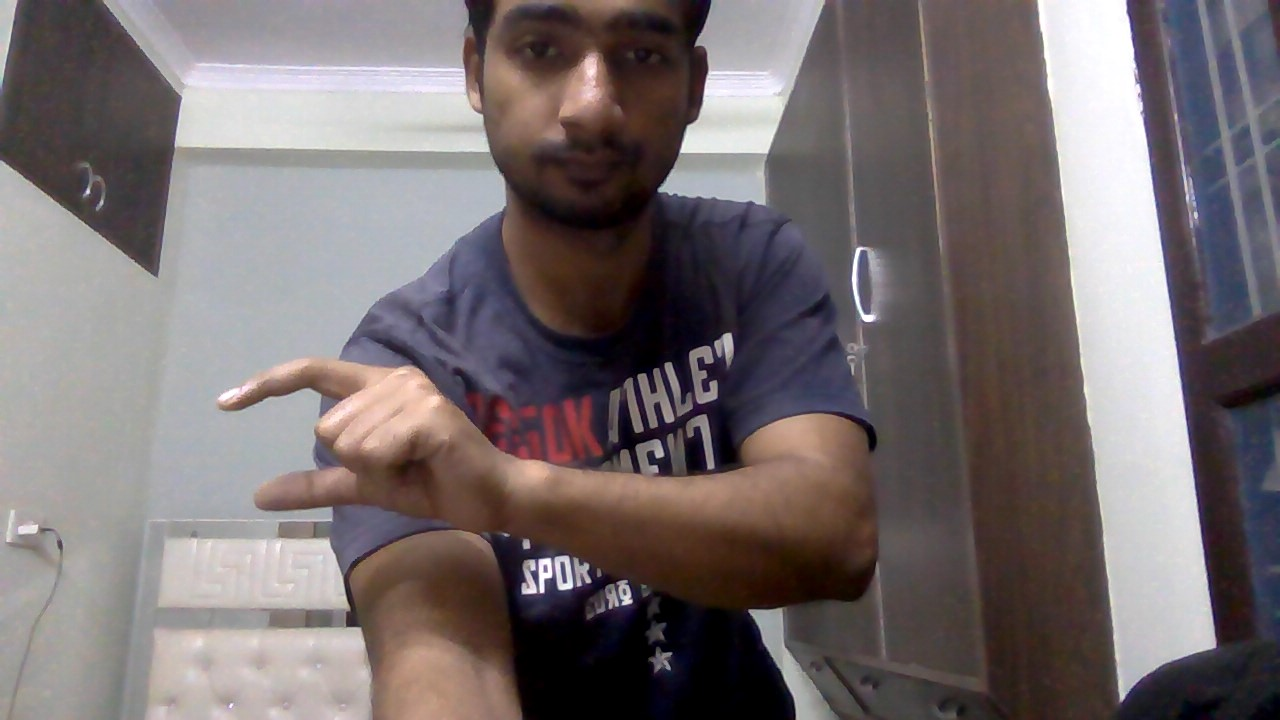Paste: (209, 347, 515, 553)
